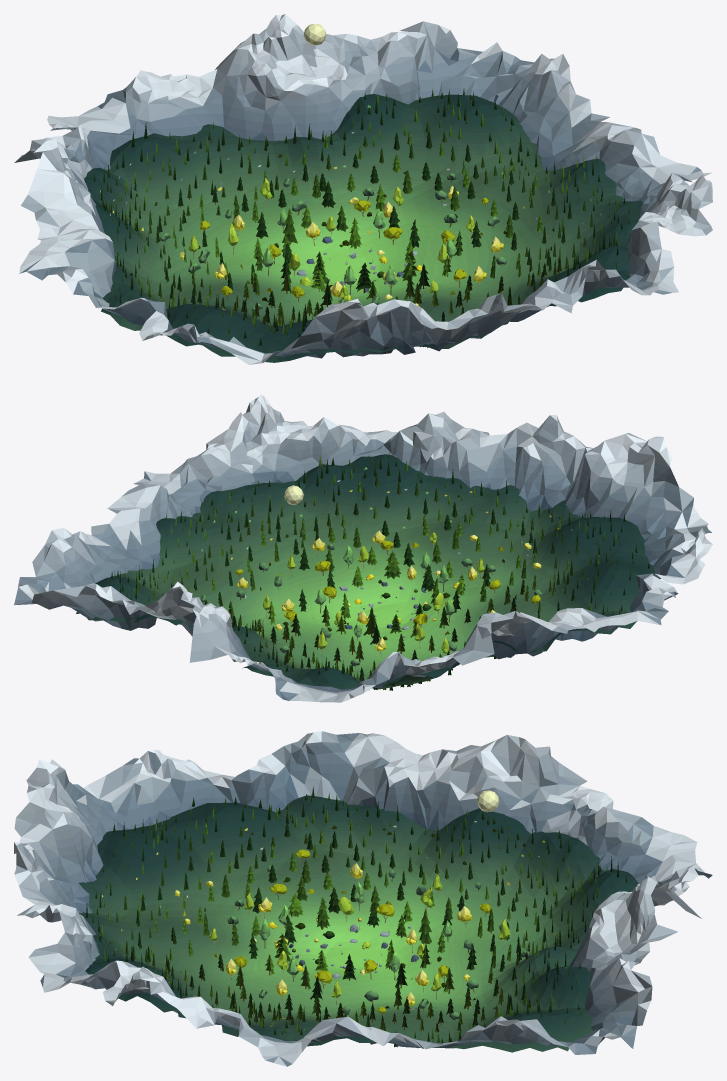
Rendered from meadow.obj.
The picture shows the model from 3 angles, top to bottom: view 1: azimuth 30°, elevation 25°; view 2: azimuth 150°, elevation 25°; view 3: azimuth 270°, elevation 25°; orthographic projection. The views are drawn at different scales.
Visible parts, largest first — view 1: Mountains_Plane.003; view 2: Mountains_Plane.003; view 3: Mountains_Plane.003.
Part boxes in pixels (left/top/right/bottom): Mountains_Plane.003: left=14, top=14, right=712, bottom=364; Mountains_Plane.003: left=14, top=394, right=712, bottom=702; Mountains_Plane.003: left=14, top=731, right=712, bottom=1066.
Bounding box in the file's own units: 168 × 47.75 × 161.
3 materials, 3 textured.
